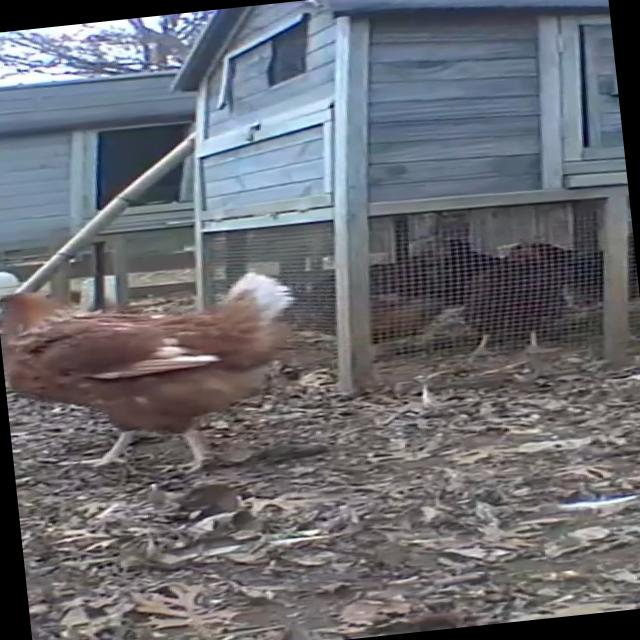walking: (0, 229, 343, 504)
